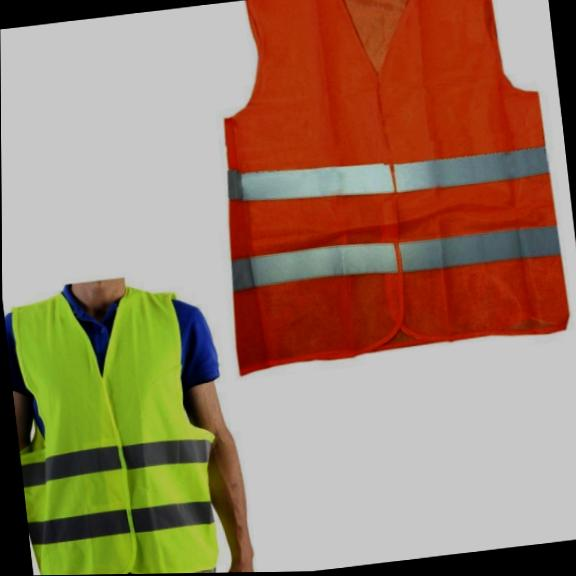safety_vest: (196, 0, 571, 375), (2, 283, 233, 576)
